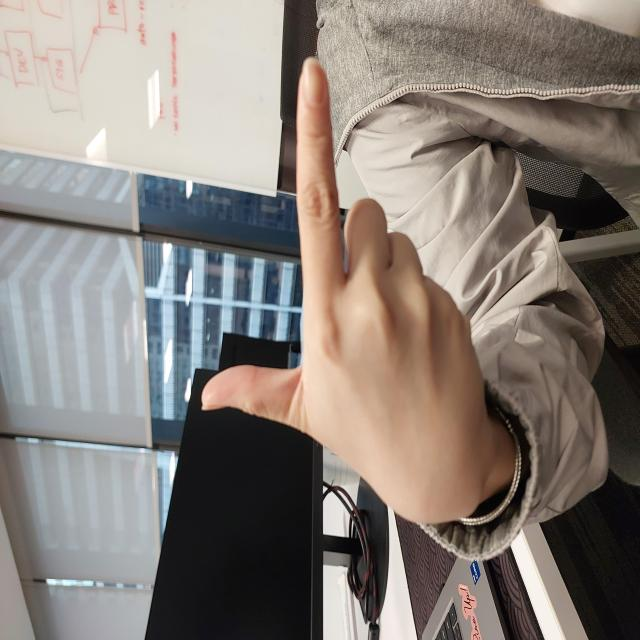G: (175, 201, 582, 479)
